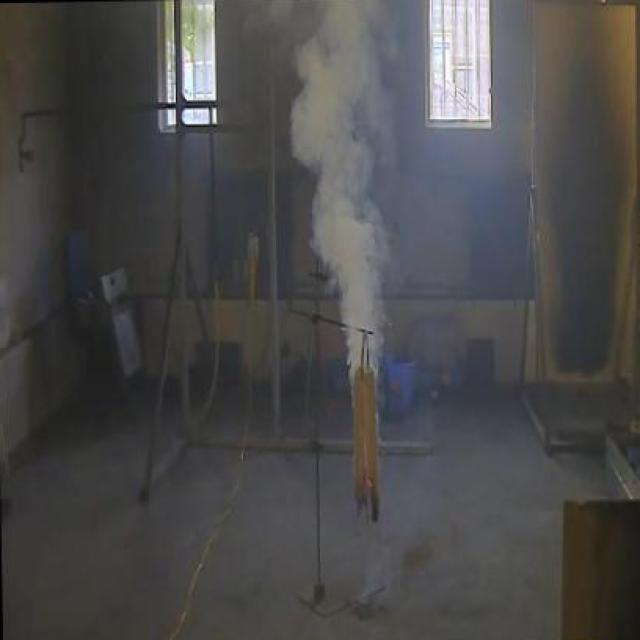fire: (272, 0, 410, 353)
